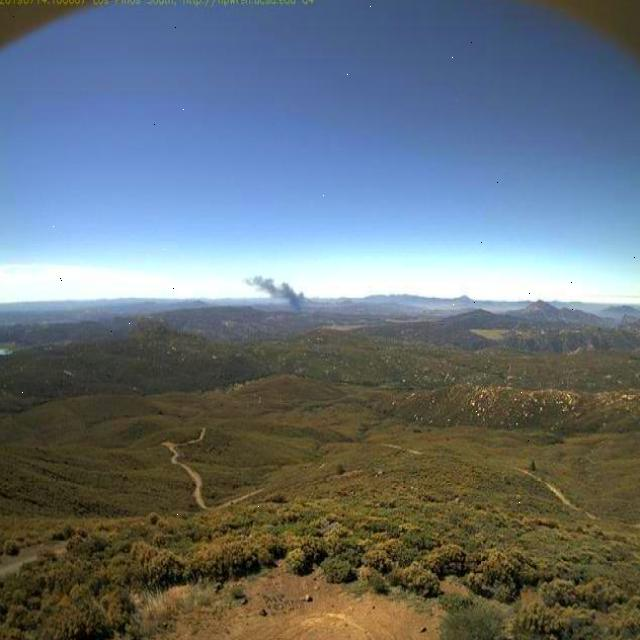smoke: (239, 263, 311, 315)
